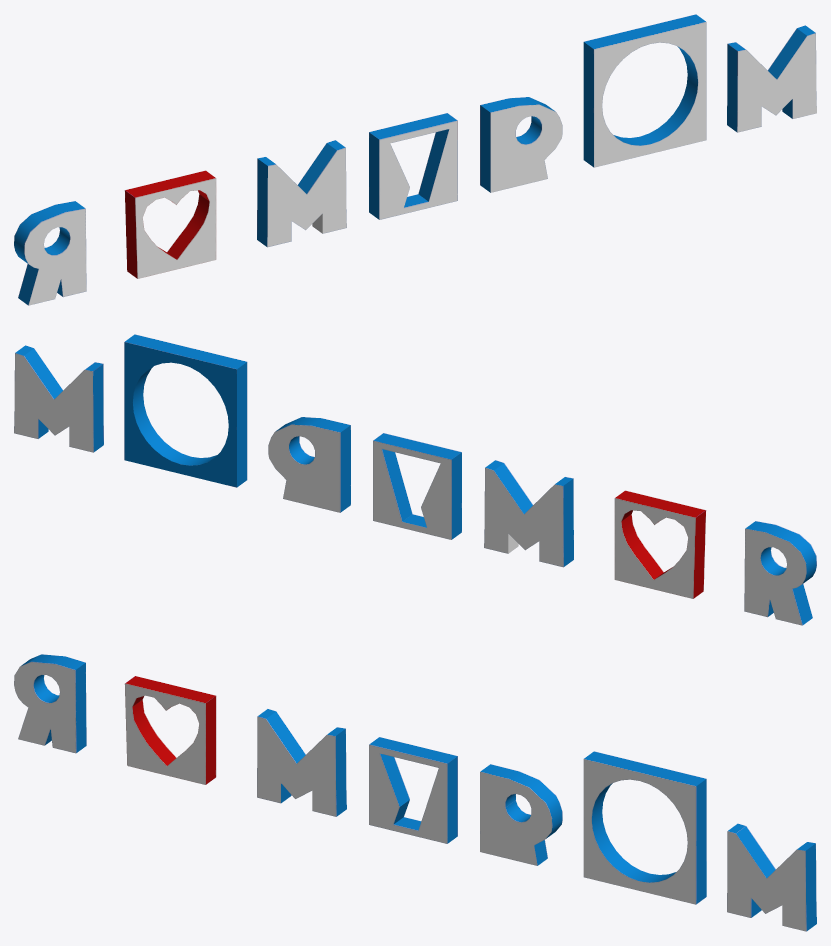
File: Font.gltf
3 views of the same model, one above another, from view 1: azimuth 30°, elevation 25°; view 2: azimuth 150°, elevation 25°; view 3: azimuth 330°, elevation 25° (orthographic).
Visible parts, largest first — view 1: Надпись; view 2: Надпись; view 3: Надпись.
Boxes of the visible parts, bbox=[...] form: Надпись: bbox=[14, 14, 816, 305]; Надпись: bbox=[14, 334, 816, 625]; Надпись: bbox=[14, 654, 816, 931].
Size of the model in its own units: 2.04 by 0.2915 by 0.0469.
1 material, 1 textured.
